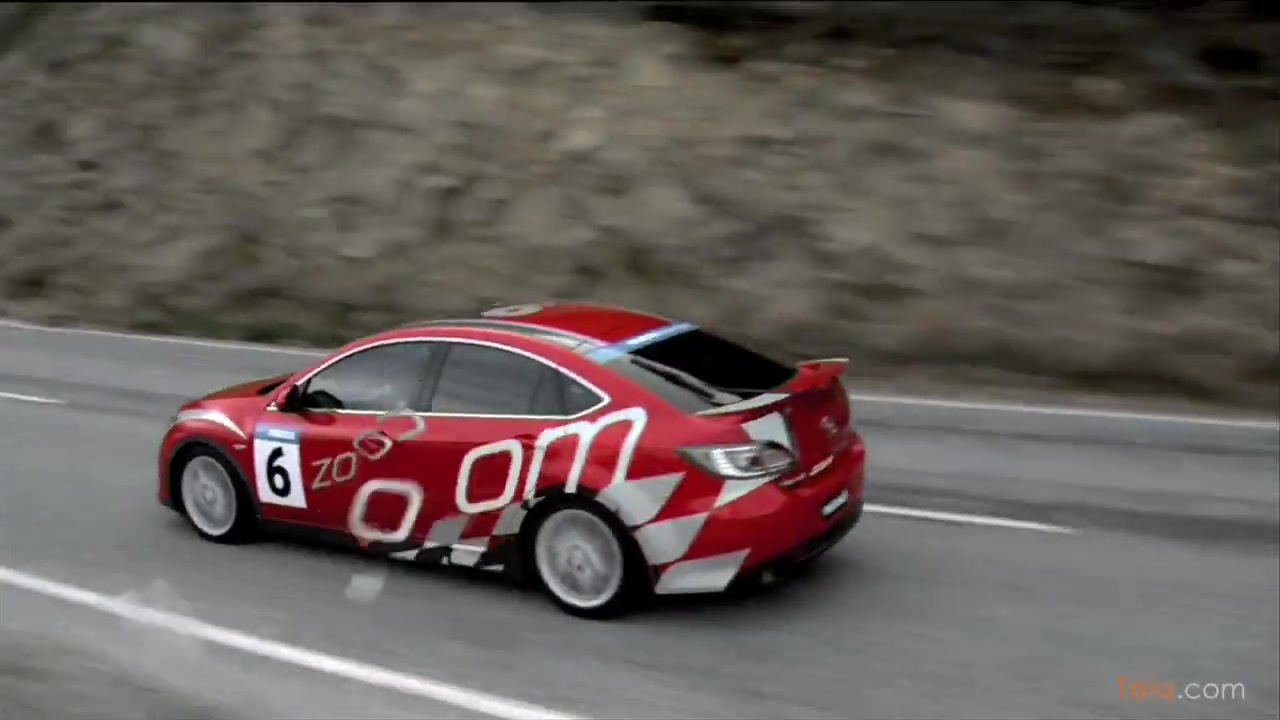car: (154, 305, 870, 620)
